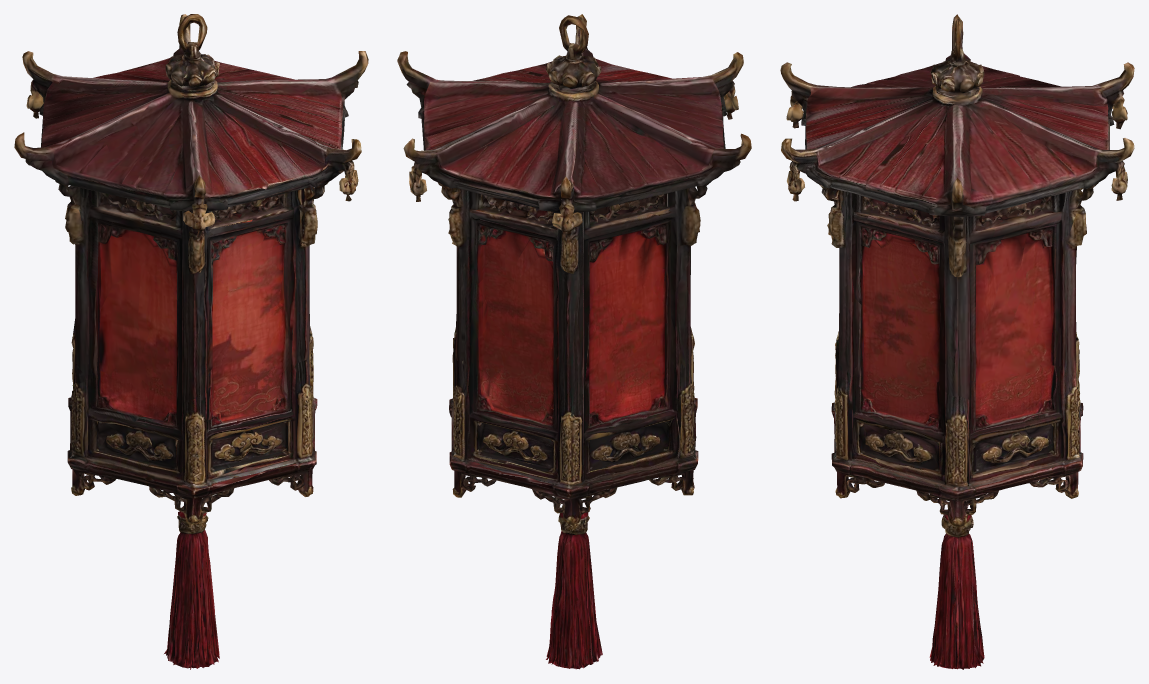
File: lantern.glb
3 views of the same model, side by side, from view 1: azimuth 30°, elevation 25°; view 2: azimuth 150°, elevation 25°; view 3: azimuth 270°, elevation 25° (orthographic).
Parts seen in each view (by area): view 1: tripo_node_9a43a952-0276-4a43-8969-bd6354cdcae1; view 2: tripo_node_9a43a952-0276-4a43-8969-bd6354cdcae1; view 3: tripo_node_9a43a952-0276-4a43-8969-bd6354cdcae1.
Part boxes in pixels (x1=…): tripo_node_9a43a952-0276-4a43-8969-bd6354cdcae1: x1=14, y1=14, x2=368, y2=669; tripo_node_9a43a952-0276-4a43-8969-bd6354cdcae1: x1=397, y1=14, x2=751, y2=669; tripo_node_9a43a952-0276-4a43-8969-bd6354cdcae1: x1=780, y1=14, x2=1134, y2=669.
Bounding box in the file's own units: 0.5638 × 0.9796 × 0.4911.
1 material, 1 textured.
